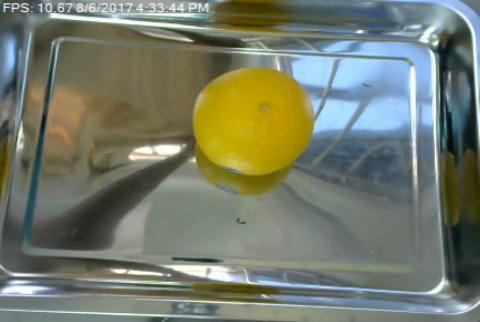Orange: (191, 66, 316, 177)
